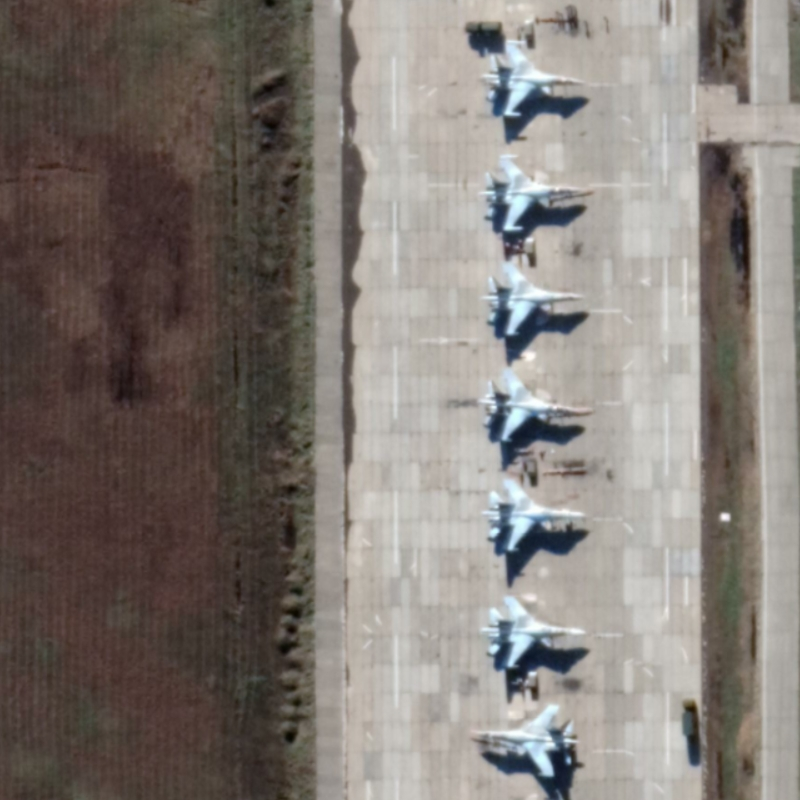A1: (477, 152, 597, 234), (476, 366, 597, 443), (480, 37, 588, 120), (480, 478, 594, 555), (472, 702, 582, 781), (480, 259, 588, 337), (479, 594, 588, 670)
